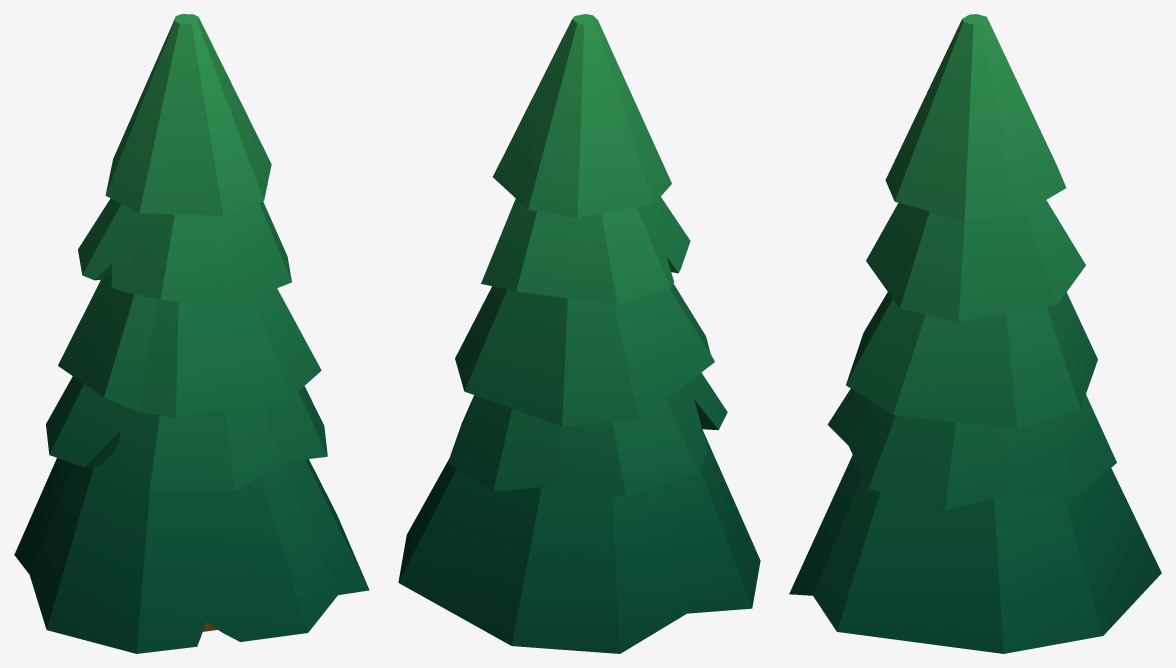
File: treeMediumSOLO.fbx
3 renders of one model, left to right at view 1: azimuth 30°, elevation 25°; view 2: azimuth 150°, elevation 25°; view 3: azimuth 270°, elevation 25°, orthographic.
Parts seen in each view (by area): view 1: Cube.011; view 2: Cube.011; view 3: Cube.011.
Boxes of the visible parts, left/top/right/bottom form: Cube.011: left=14, top=14, right=369, bottom=653; Cube.011: left=398, top=14, right=760, bottom=653; Cube.011: left=789, top=14, right=1161, bottom=653.
Bounding box in the file's own units: 206 × 371 × 206.
